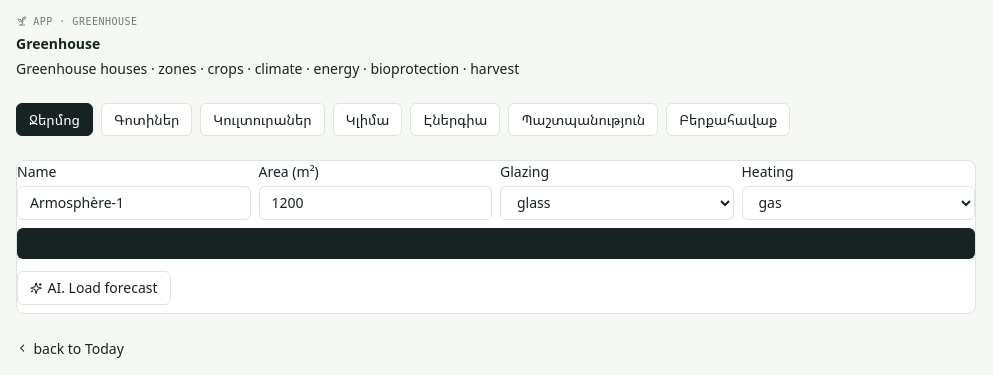
Test: Greenhouse — tab switching › clicking the zone tab reveals the greenhouse-zone-panel panel
Click the tab with test id "greenhouse-tab-zone" at (147, 119), box x1=101 y1=102 x2=192 y2=136
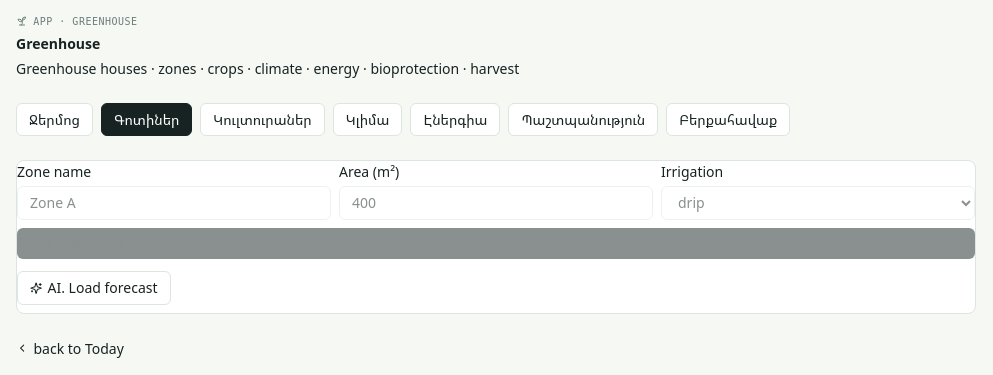
Expected: the element with test id "greenhouse-zone-panel" is shown, x1=16 y1=160 x2=976 y2=314
